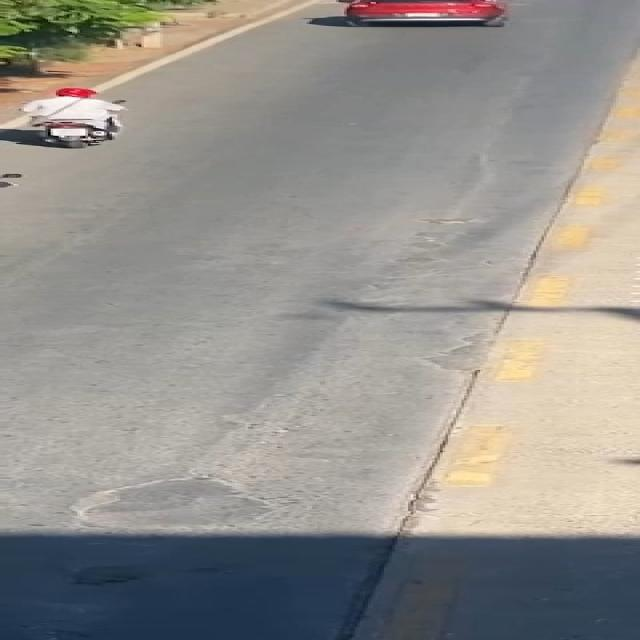car: (324, 0, 541, 33)
